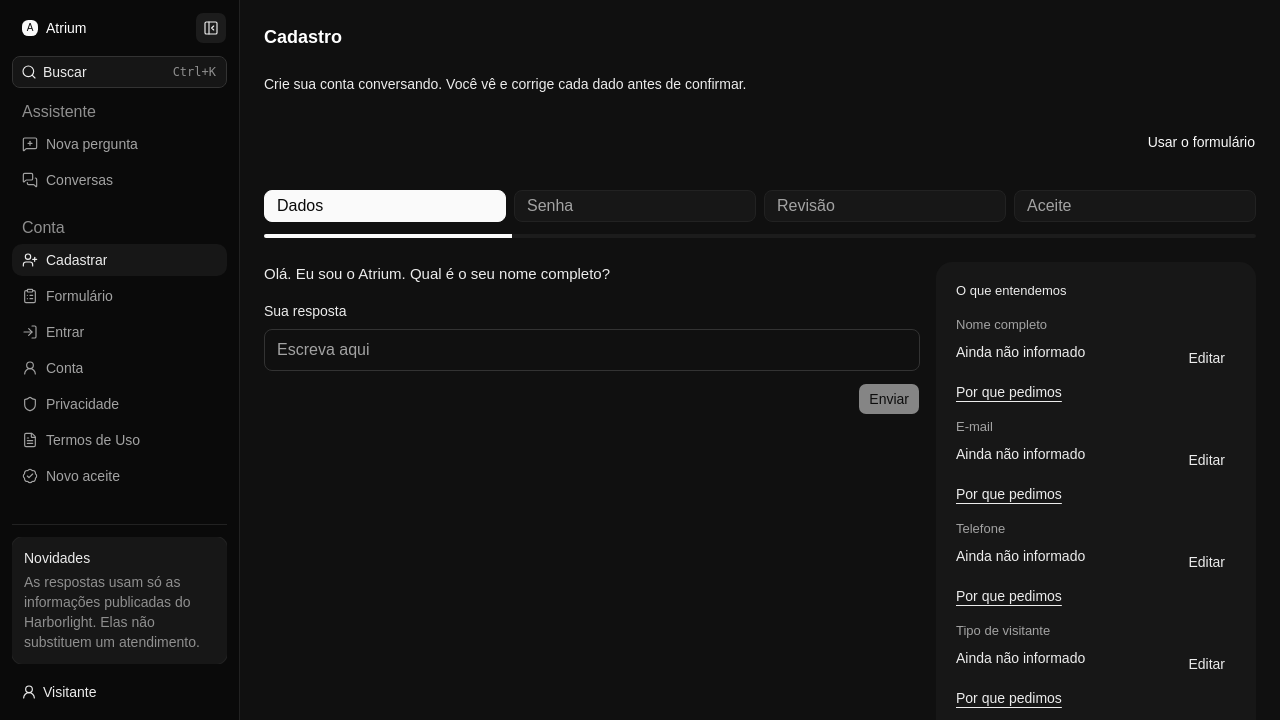
Test case: telas do cadastro › o cartão mostra os campos entendidos em cada turno
Type "Ana Costa" into the text box labelled "Sua resposta".
click(592, 350); type("Ana Costa")  # box [264,329,920,371]
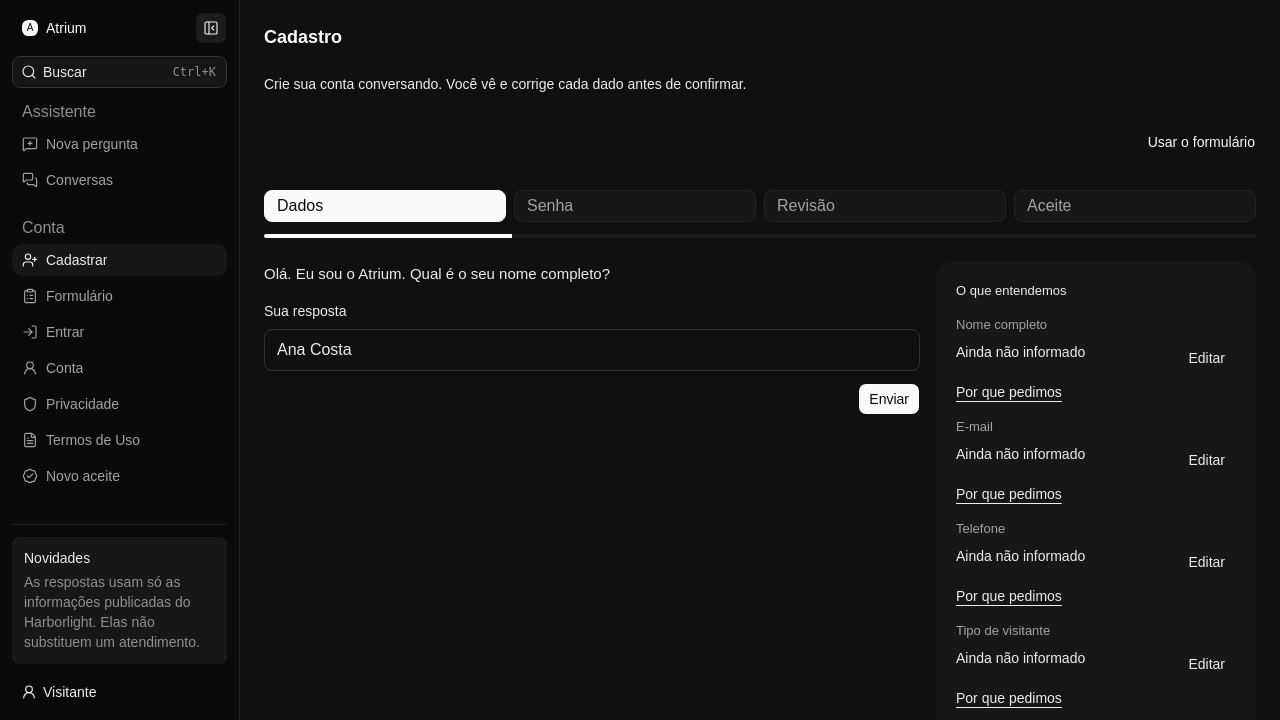
Click the button "Enviar".
click(889, 399)  # box [858,383,920,415]
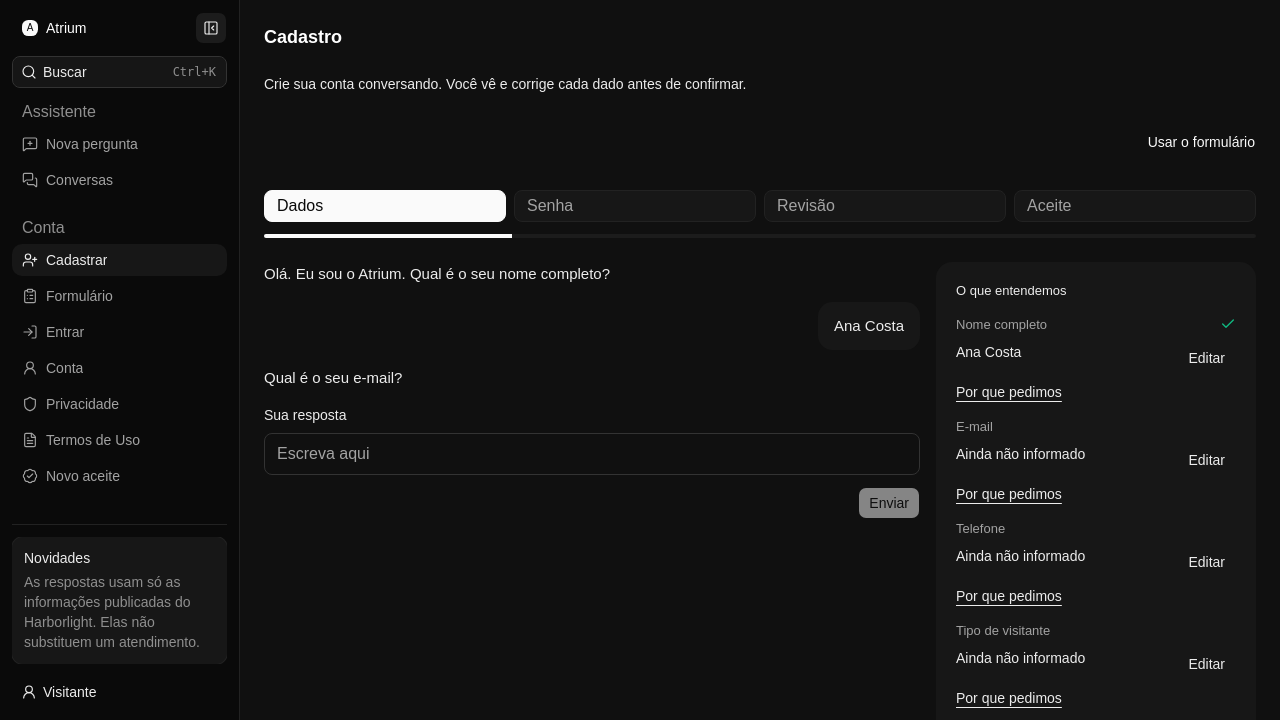
Expected: the 1st text "Ainda não informado" is shown, [956,444,1085,464]
Now the text "Ana Costa" below "O que entendemos" is shown, box [956,344,1021,360]
Type "ana@example.com" into the text box labelled "Sua resposta".
click(592, 454); type("ana@example.com")  # box [264,433,920,475]
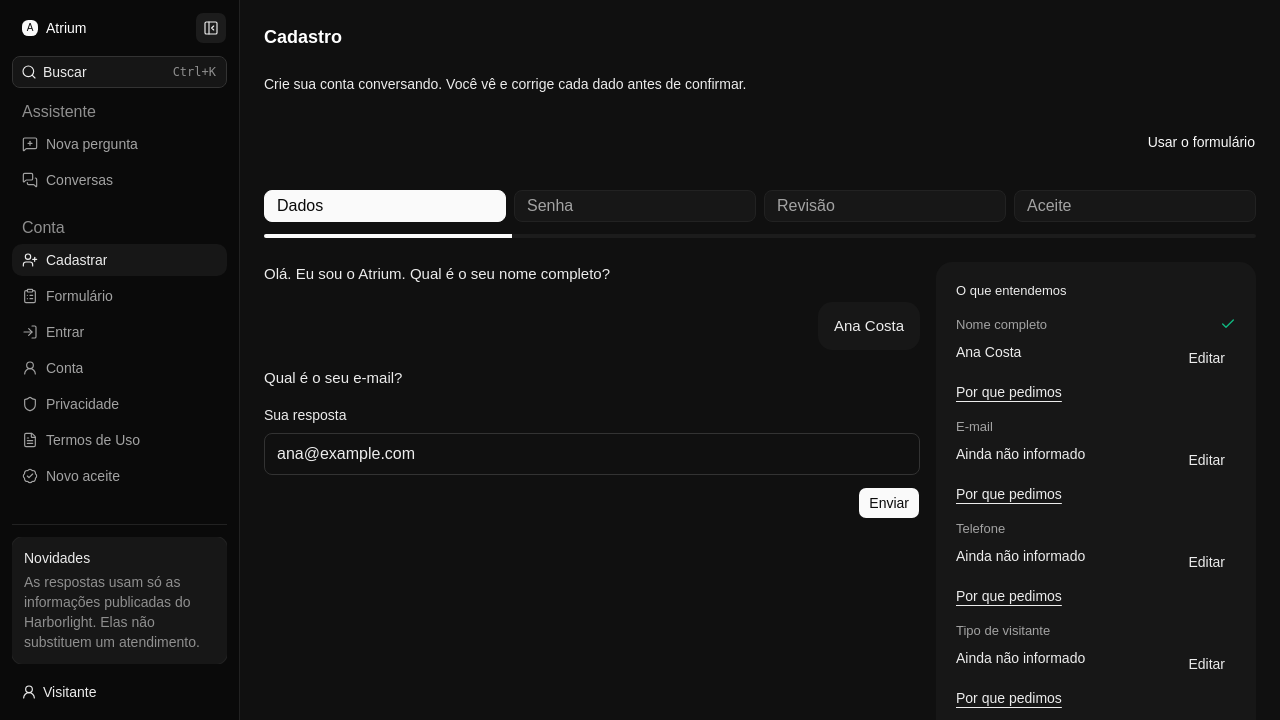
Click the button "Enviar".
click(889, 503)  # box [858,487,920,519]
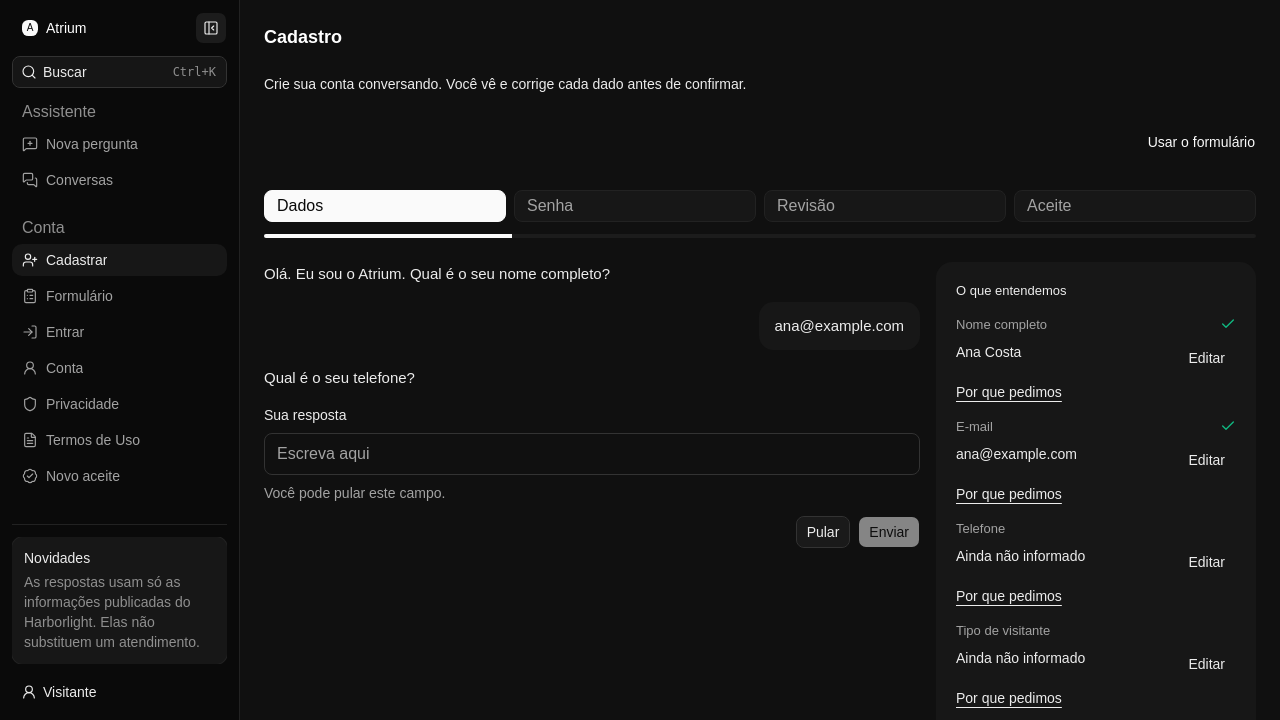
Now the text "Ana Costa" is shown, box [956,342,1021,362]
Now the text "ana@example.com" below "E-mail" is shown, box [956,446,1077,462]
